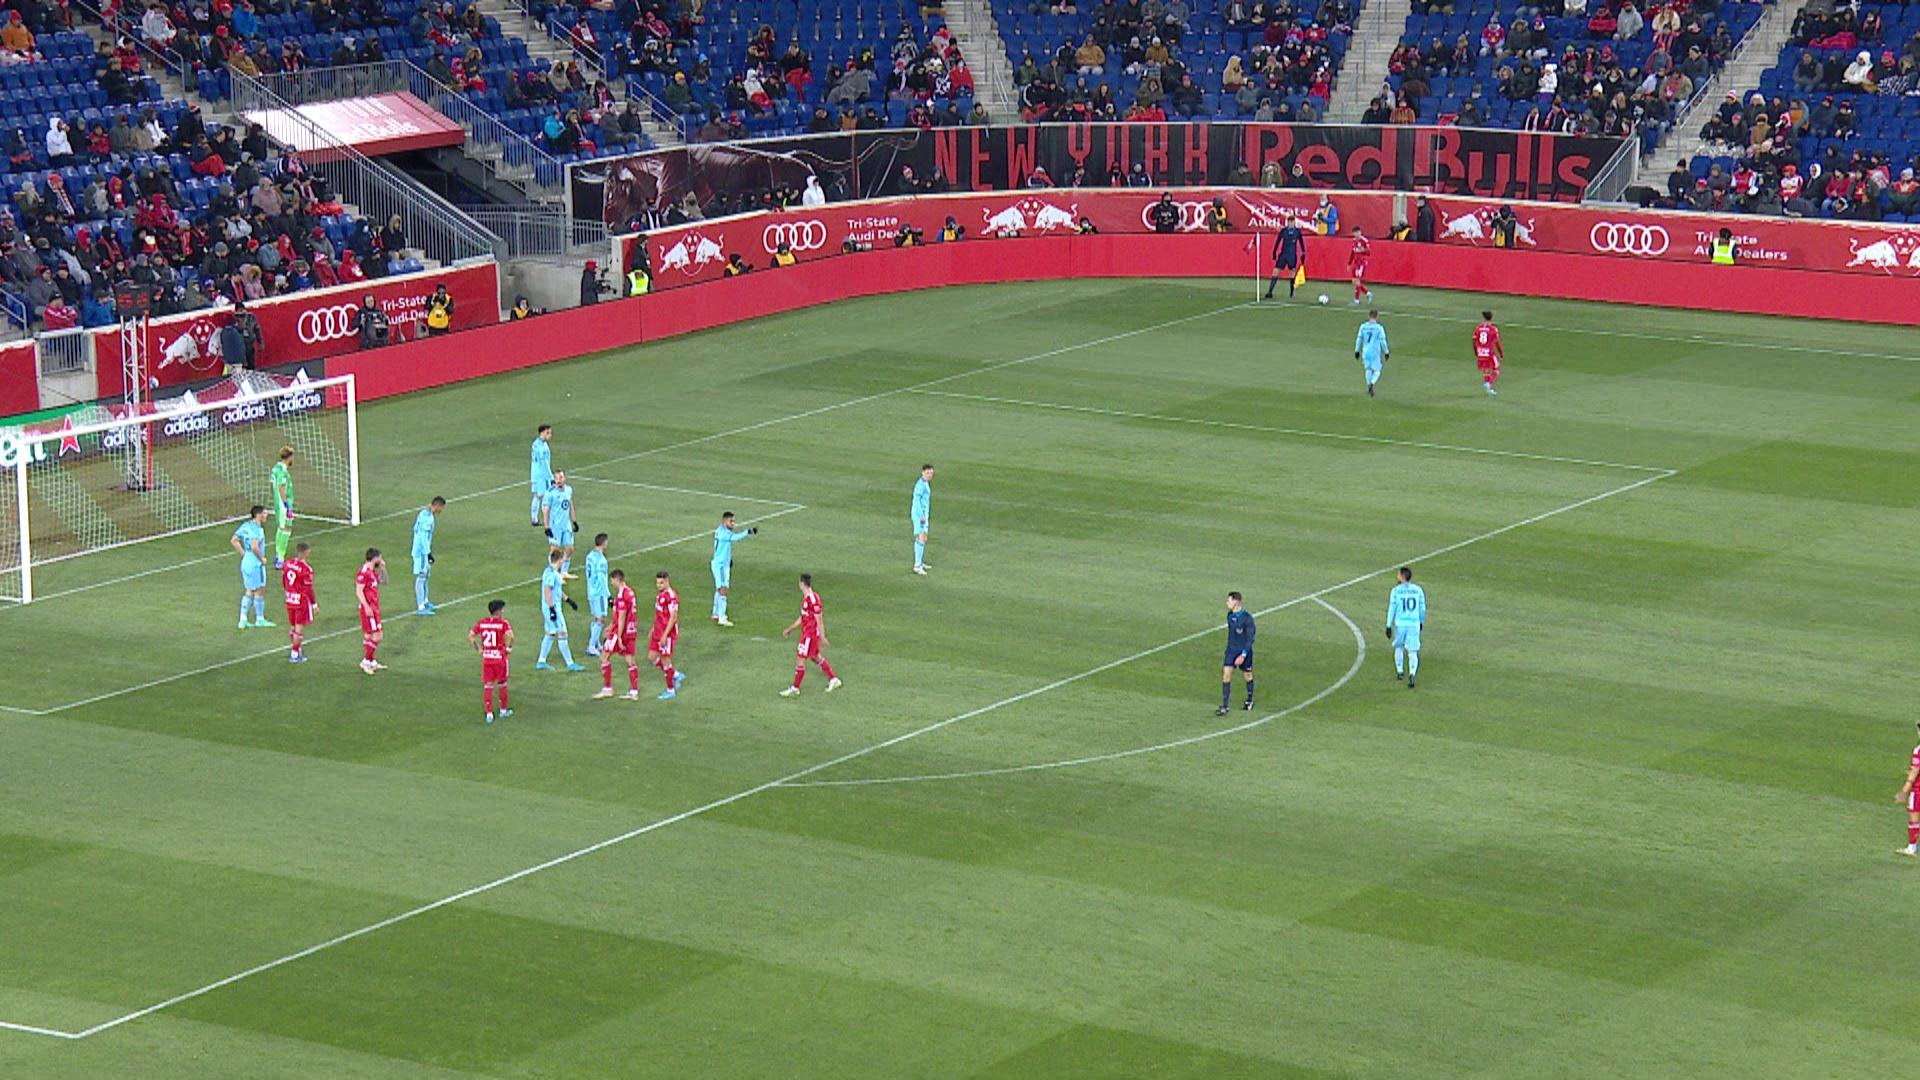football: (1319, 295, 1329, 303)
